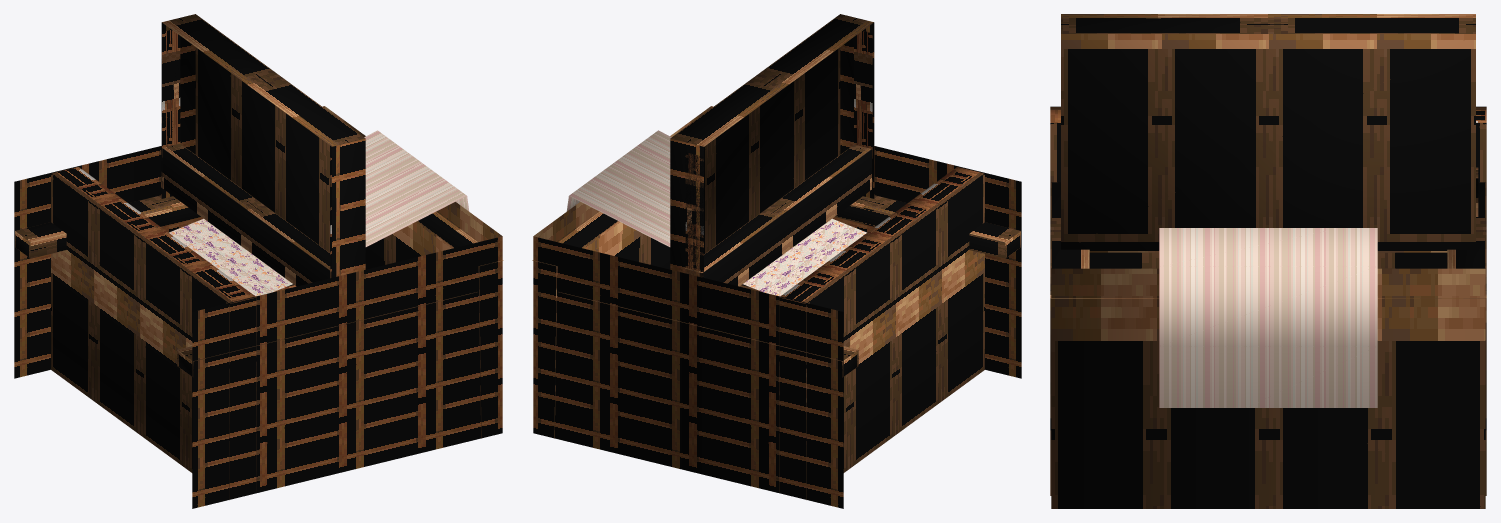
File: 3451IMSY01_13.gltf
3 views of the same model, side by side, from view 1: azimuth 30°, elevation 25°; view 2: azimuth 150°, elevation 25°; view 3: azimuth 270°, elevation 25° (orthographic). The views are drawn at different scales.
Parts seen in each view (by area): view 1: 3451IMSY01_13; view 2: 3451IMSY01_13; view 3: 3451IMSY01_13.
Boxes of the visible parts, x1,y1,x2,y2 form: 3451IMSY01_13: (14, 14, 503, 508); 3451IMSY01_13: (532, 14, 1021, 508); 3451IMSY01_13: (1050, 14, 1486, 508).
Bounding box in the file's own units: 1.01 × 0.9563 × 0.9561.
4 materials, 4 textured.
